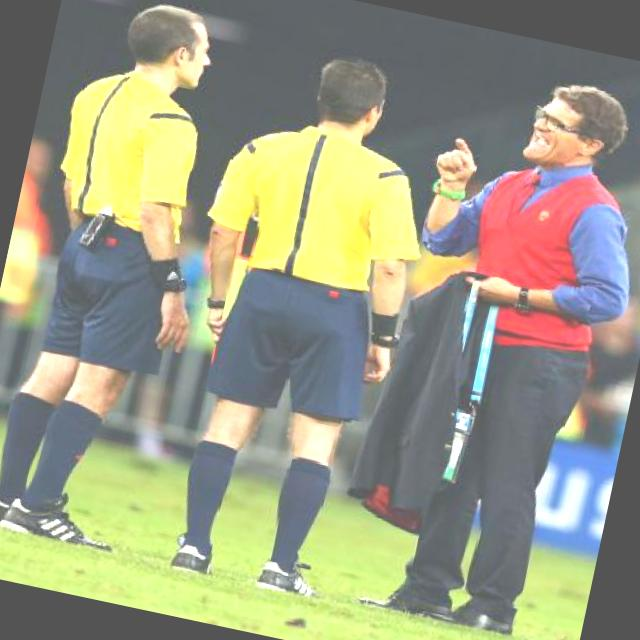Person: (368, 47, 640, 640), (162, 24, 430, 596), (0, 0, 254, 594)
